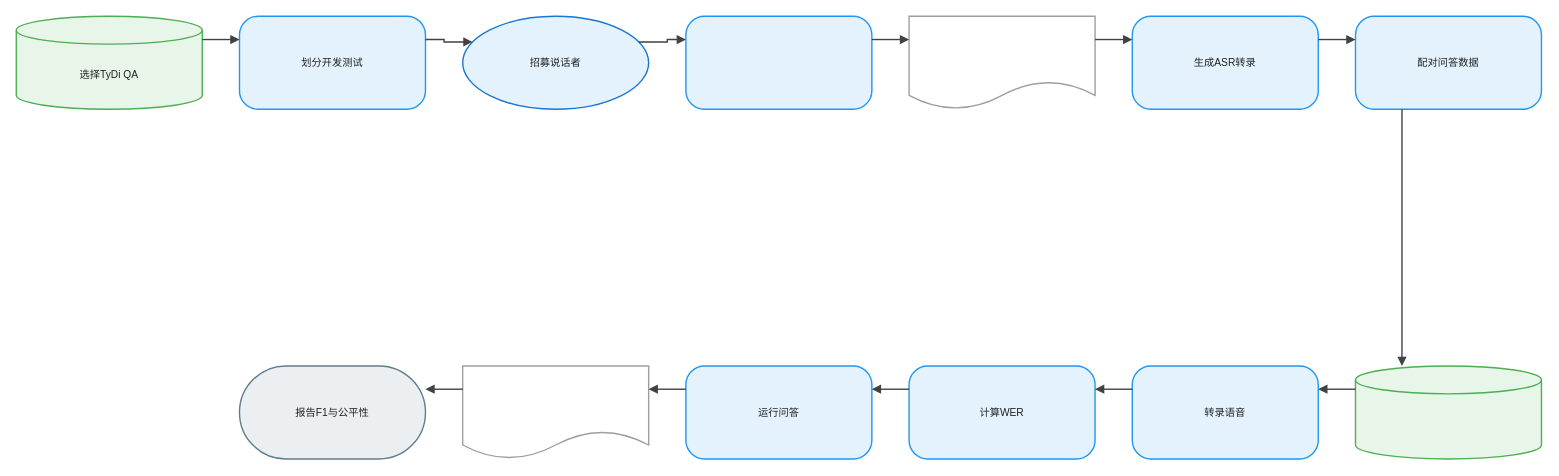
The diagram is 1559 pixels wide and 476 high, and some of its shapes have lost their labels. Each missing label, with the box of its shape:
发布文件: (1354, 365, 1542, 459)
录制语音: (685, 15, 872, 110)
添加元数据: (908, 15, 1095, 110)
预测答案跨度: (462, 365, 649, 459)
